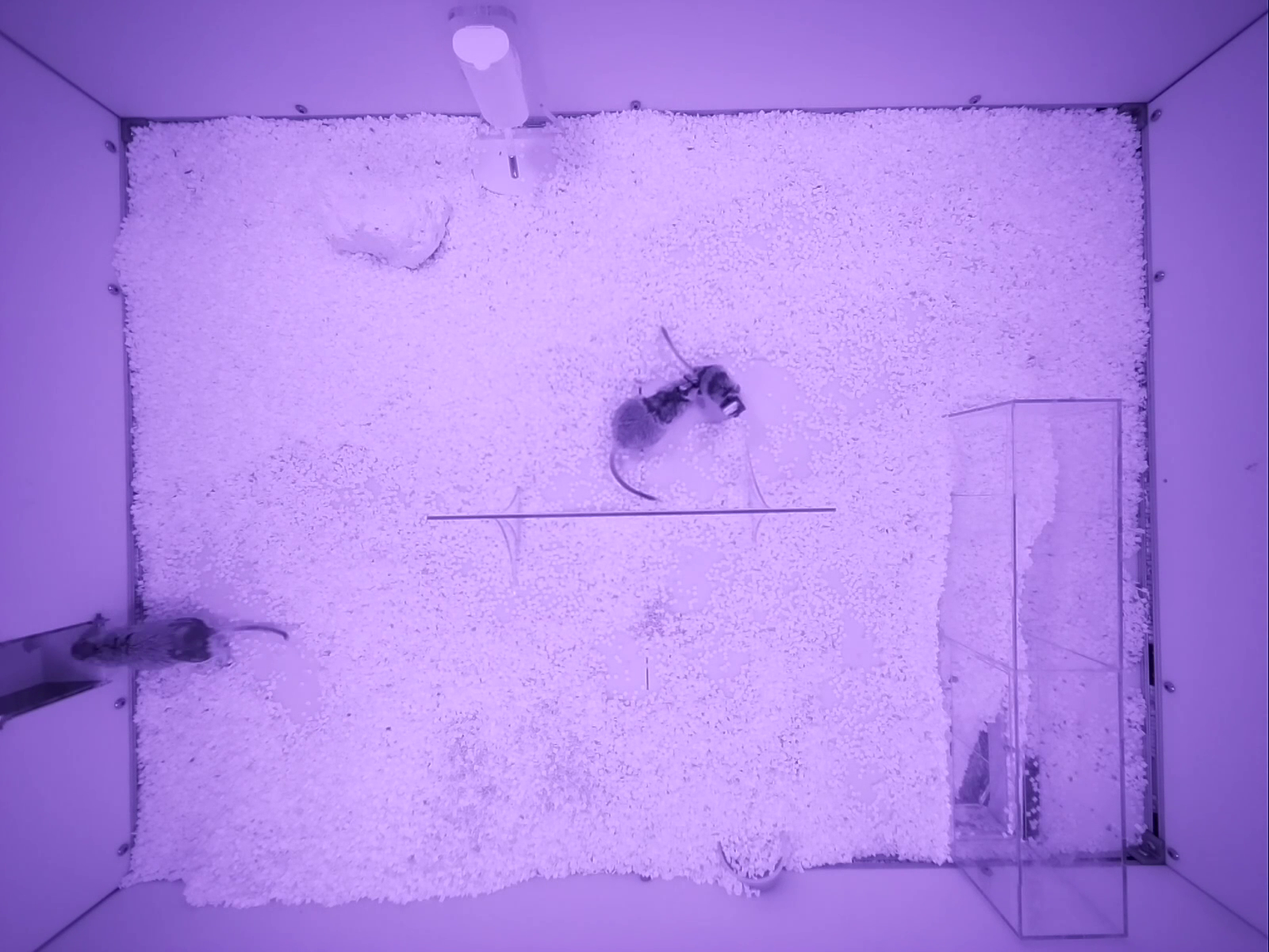adult_back: (609, 327, 744, 501), (71, 614, 286, 669)
